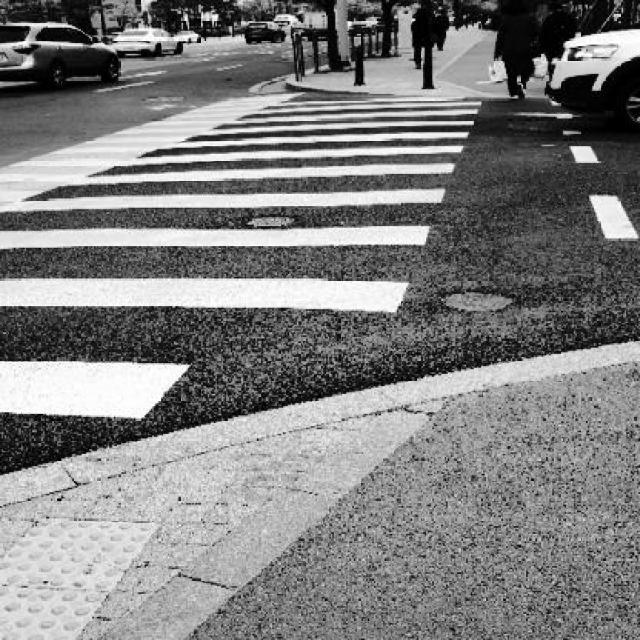intact_crosswalk: (0, 94, 482, 425)
